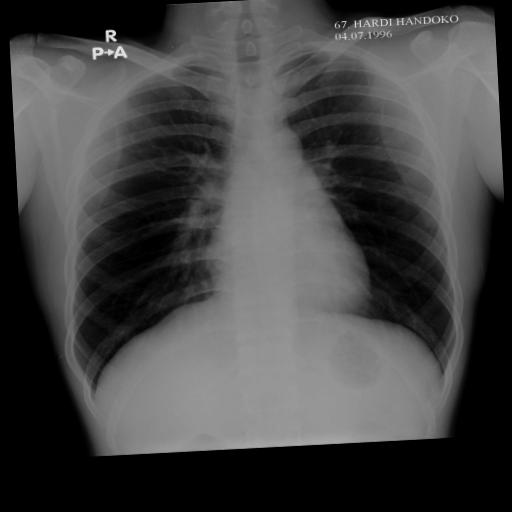normal: (45, 12, 464, 404)
